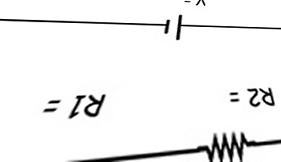resistor: (192, 127, 256, 161)
